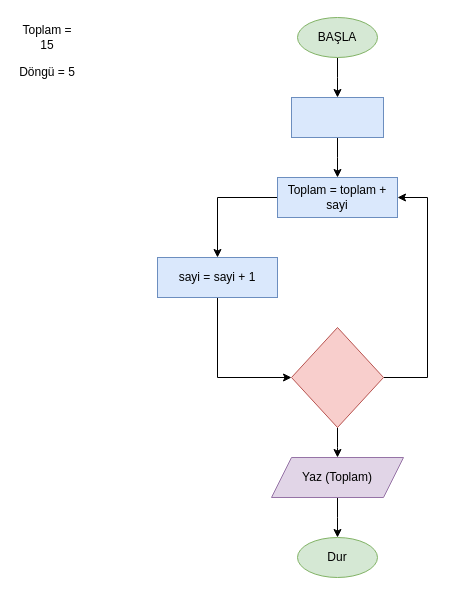
Some shapes in this 453 by 595 pixel diagram are drawn without their labels. Here are the shapes that lost their labels. From the top down, the centre of each, then its label:
point 337,117: Toplam = 0 Sayi = 1
point 337,377: toplam >10
